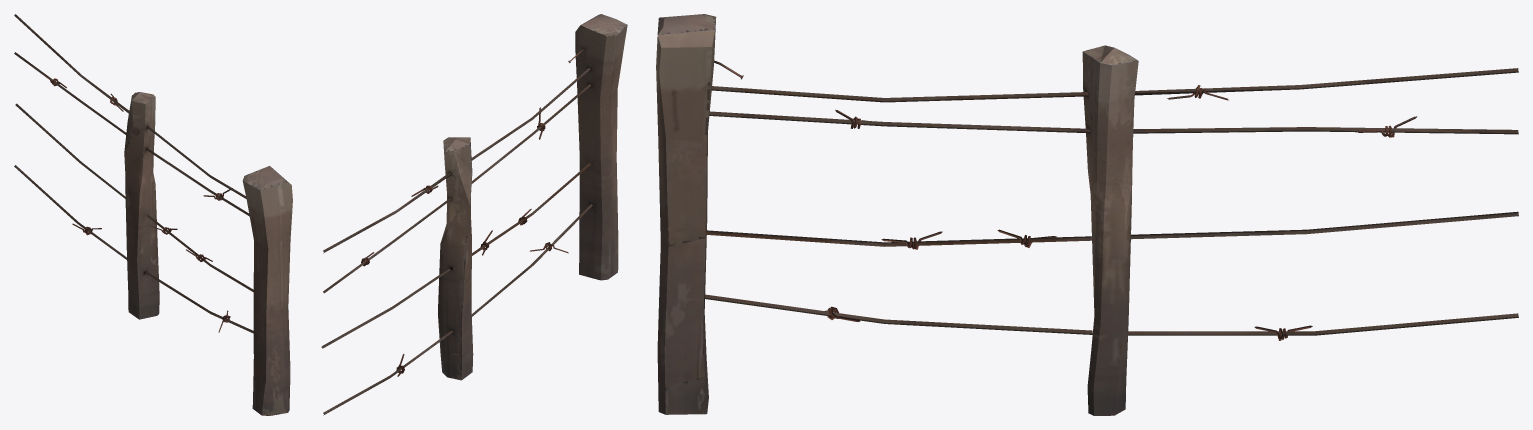
The picture shows the model from 3 angles, left to right: view 1: azimuth 30°, elevation 25°; view 2: azimuth 150°, elevation 25°; view 3: azimuth 270°, elevation 25°; orthographic projection. The views are drawn at different scales.
Parts seen in each view (by area): view 1: body0_model0_lod0_mesh0; view 2: body0_model0_lod0_mesh0; view 3: body0_model0_lod0_mesh0.
Boxes of the visible parts, left/top/right/bottom form: body0_model0_lod0_mesh0: left=14, top=14, right=292, bottom=415; body0_model0_lod0_mesh0: left=321, top=14, right=627, bottom=415; body0_model0_lod0_mesh0: left=656, top=14, right=1518, bottom=415.
Bounding box in the file's own units: 10.59 × 64.1 × 131.
1 material, 1 textured.
